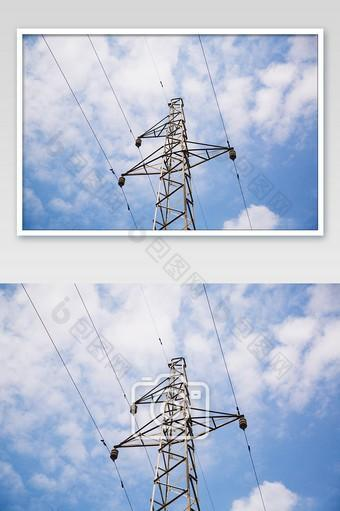power_tower: (110, 85, 237, 229)
